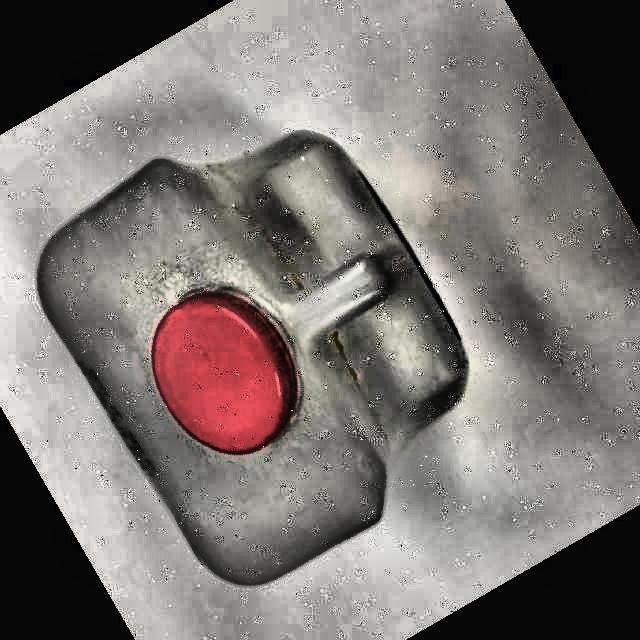plastic: (38, 132, 468, 584)
